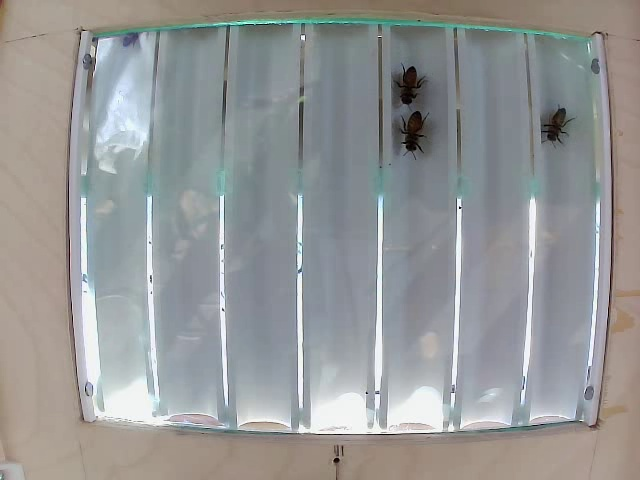bee: (395, 59, 424, 110), (544, 98, 568, 149), (405, 104, 427, 155)
